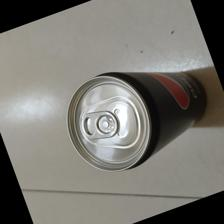Pepsi: (66, 71, 212, 174)
